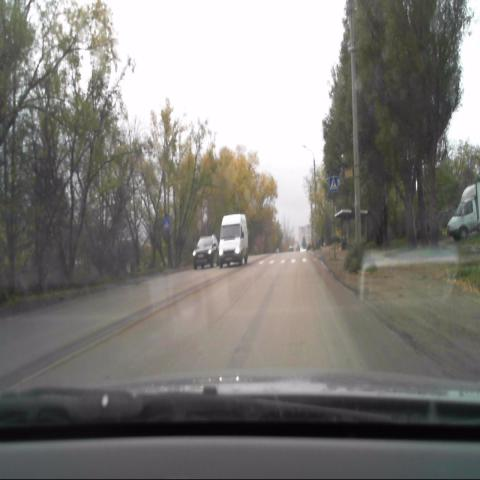5_19_1: (329, 175, 339, 193), (162, 217, 171, 230)
